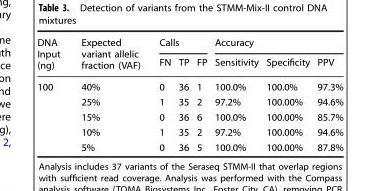table: (36, 36, 342, 152)
table column: (70, 36, 149, 152), (210, 36, 261, 152), (261, 36, 312, 152), (36, 36, 70, 152), (312, 36, 342, 152), (149, 36, 174, 152), (174, 36, 192, 152), (192, 36, 210, 152)
table column header: (36, 36, 342, 75)
table row: (36, 51, 342, 75), (36, 75, 342, 94), (36, 36, 342, 51), (36, 94, 342, 109), (36, 109, 342, 124), (36, 124, 342, 139), (36, 139, 342, 152)
table spanning cell: (70, 36, 149, 75), (36, 75, 70, 152), (210, 36, 342, 51), (36, 36, 70, 75), (149, 36, 210, 51)
